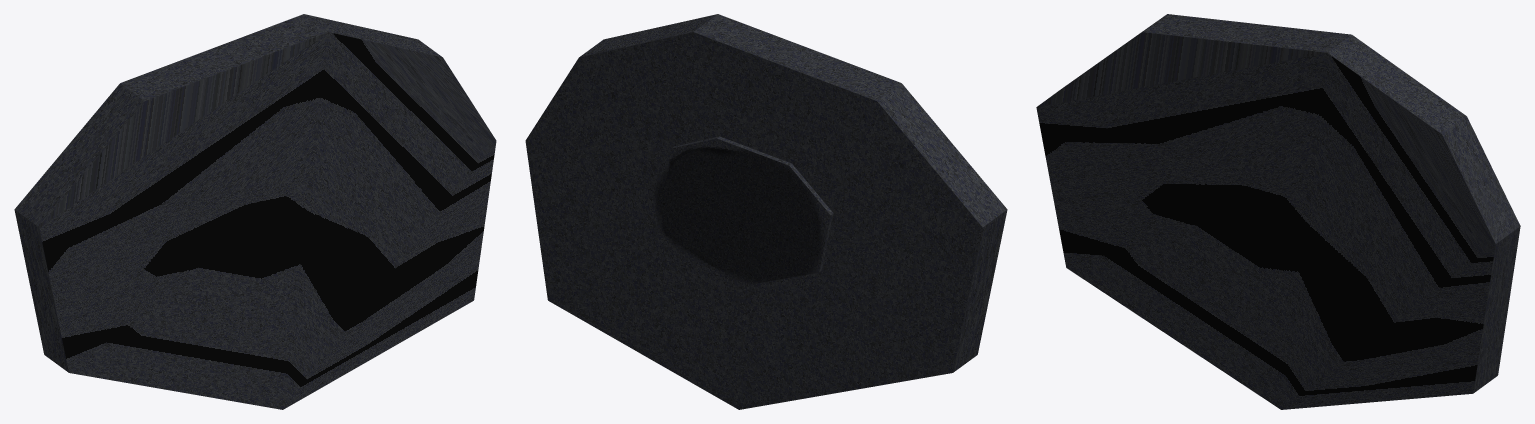
The model's file is eye_test.gltf.
The picture shows the model from 3 angles, left to right: view 1: azimuth 30°, elevation 25°; view 2: azimuth 150°, elevation 25°; view 3: azimuth 330°, elevation 25°; orthographic projection.
Parts seen in each view (by area): view 1: Eye; view 2: Eye; view 3: Eye.
Part boxes in pixels (x1,y1,x2,y2): Eye: [14, 14, 496, 409]; Eye: [525, 14, 1007, 409]; Eye: [1036, 14, 1520, 409].
Size of the model in its own units: 4.65 by 3.56 by 0.4847.
Materials: 1 (1 with a texture image).
